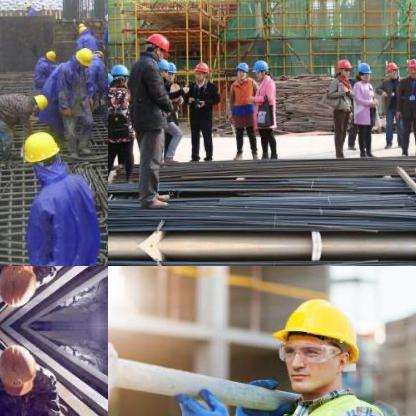Helmet: (275, 292, 360, 398), (0, 339, 40, 396), (0, 266, 40, 312), (21, 126, 61, 170), (142, 31, 172, 59), (110, 60, 128, 86), (250, 56, 270, 78), (355, 57, 373, 79), (191, 60, 210, 80), (27, 92, 47, 110), (72, 48, 92, 66), (334, 56, 352, 76), (161, 58, 175, 82), (382, 58, 398, 78), (154, 55, 168, 77), (234, 60, 249, 78), (404, 54, 415, 78), (42, 47, 58, 61), (90, 47, 104, 61), (76, 24, 86, 34)
